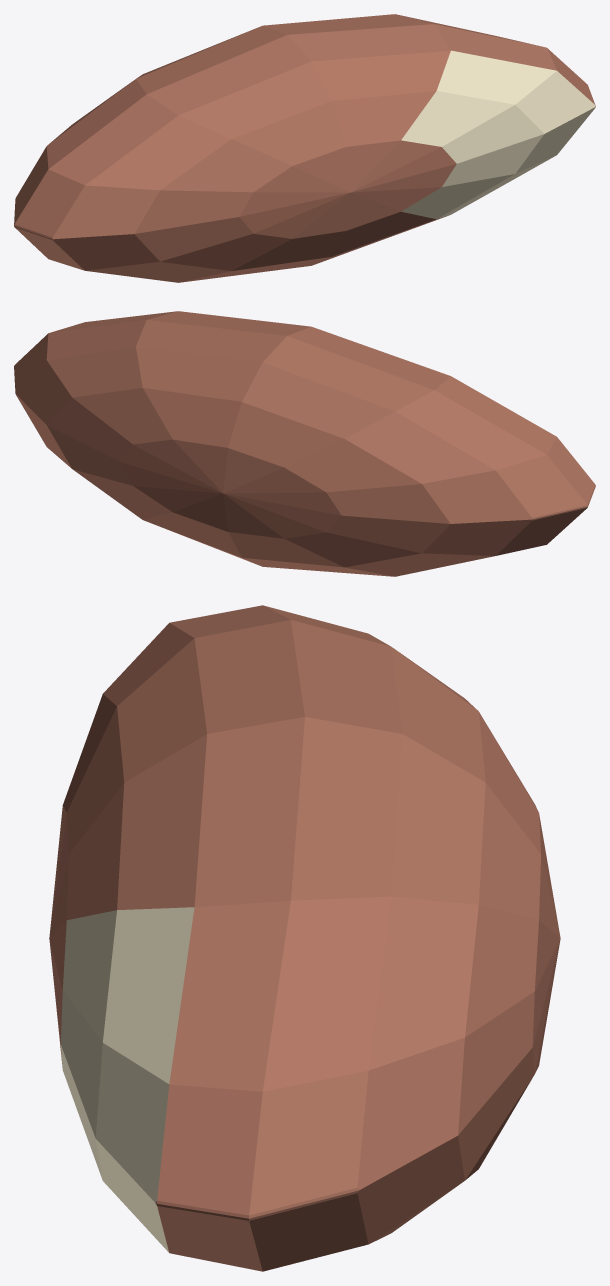
File: sweet_potato.glb
3 views of the same model, one above another, from view 1: azimuth 30°, elevation 25°; view 2: azimuth 150°, elevation 25°; view 3: azimuth 270°, elevation 25° (orthographic). The views are drawn at different scales.
Parts seen in each view (by area): view 1: sweet_potato; view 2: sweet_potato; view 3: sweet_potato.
Part boxes in pixels (bbox=[...]): sweet_potato: bbox=[14, 14, 595, 282]; sweet_potato: bbox=[14, 311, 595, 576]; sweet_potato: bbox=[49, 605, 560, 1271].
Size of the model in its own units: 0.1556 by 0.0574 by 0.06.
